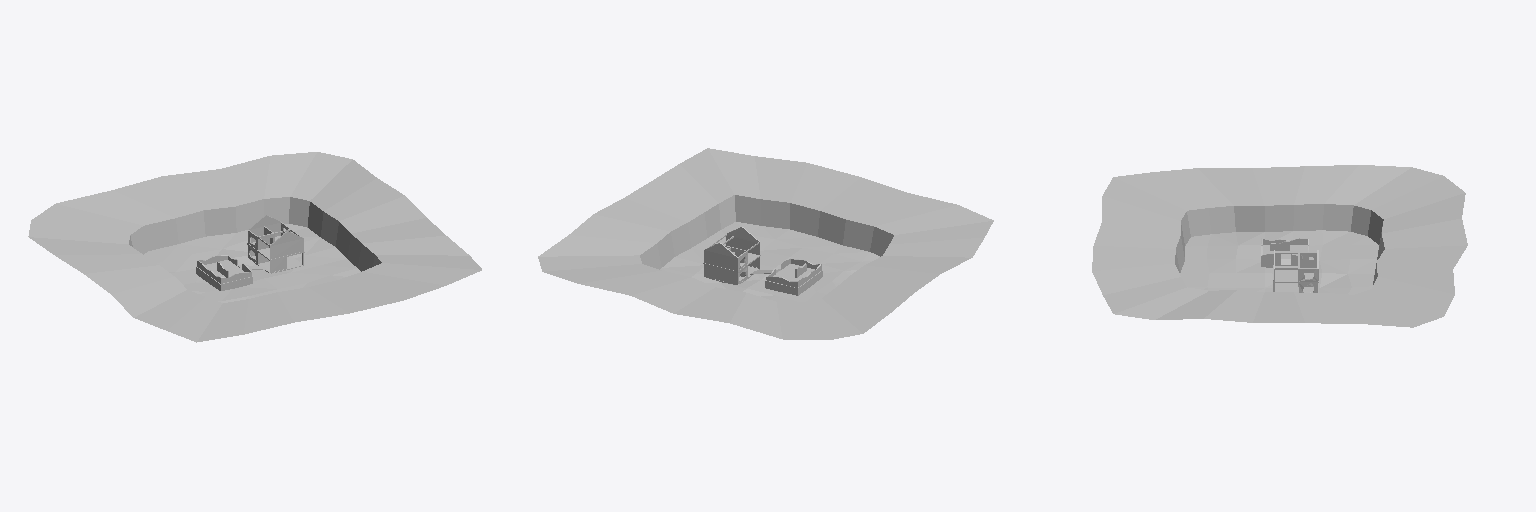
Rendered from forest_level_col.obj.
3 renders of one model, left to right at view 1: azimuth 30°, elevation 25°; view 2: azimuth 150°, elevation 25°; view 3: azimuth 270°, elevation 25°, orthographic.
Parts seen in each view (by area): view 1: Ground_Grid, Building1_Cube.021, Foundations_Cube.022, Building2_Cube.023; view 2: Ground_Grid, Building1_Cube.021, Foundations_Cube.022, Building2_Cube.023; view 3: Ground_Grid, Building1_Cube.021, Foundations_Cube.022, Building2_Cube.023.
Part boxes in pixels (x1,y1,x2,y2): Ground_Grid: (28,152,481,342); Building1_Cube.021: (247,215,304,272); Foundations_Cube.022: (196,256,303,290); Building2_Cube.023: (197,255,251,283); Ground_Grid: (538,148,993,339); Building1_Cube.021: (703,227,760,284); Foundations_Cube.022: (706,264,822,295); Building2_Cube.023: (766,258,821,287); Ground_Grid: (1092,165,1467,327); Building1_Cube.021: (1273,250,1318,292); Foundations_Cube.022: (1261,244,1318,292); Building2_Cube.023: (1261,238,1308,259).
Bounding box in the file's own units: 77.67 × 9.12 × 77.36.